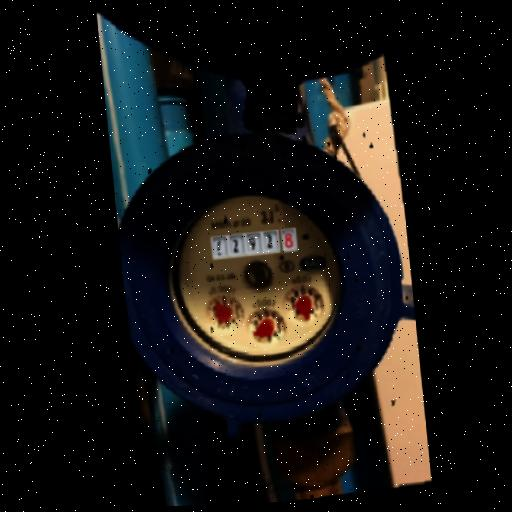2: (264, 232, 278, 251), (230, 235, 242, 254)
7: (213, 237, 226, 257)
8: (282, 230, 294, 250)
9: (247, 234, 261, 253)
border_water_meter_number: (210, 226, 298, 258)
